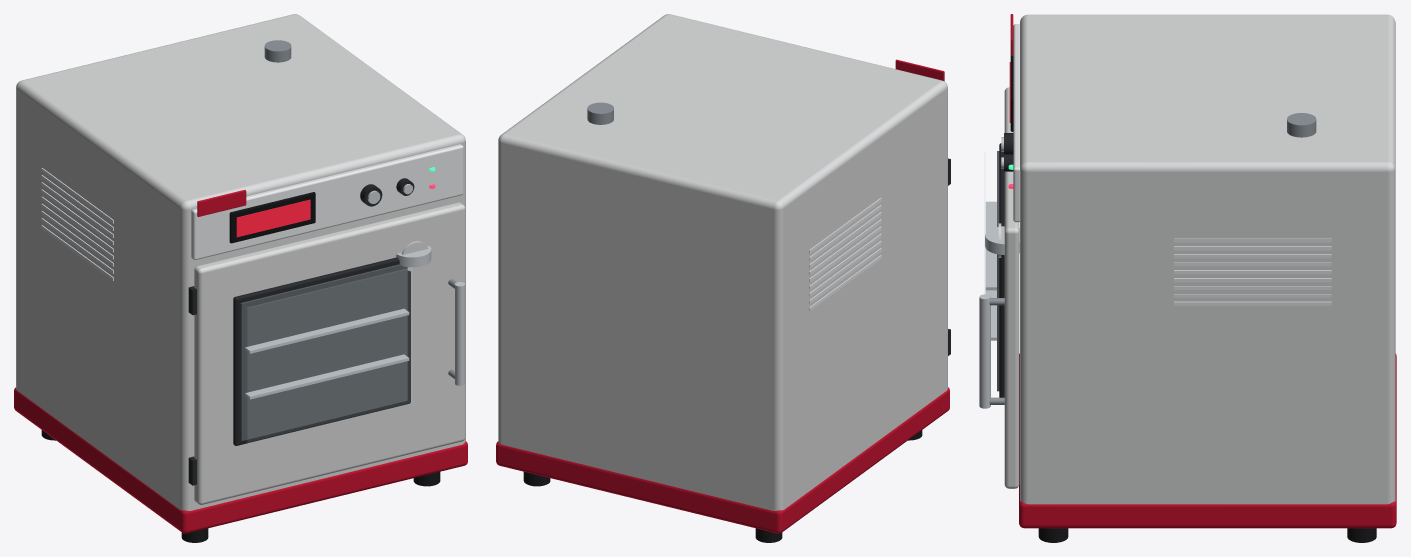
File: nve-50.glb
The picture shows the model from 3 angles, left to right: view 1: azimuth 30°, elevation 25°; view 2: azimuth 150°, elevation 25°; view 3: azimuth 270°, elevation 25°; orthographic projection. The views are drawn at different scales.
Size of the model in its own units: 0.5436 by 0.655 by 0.622.
